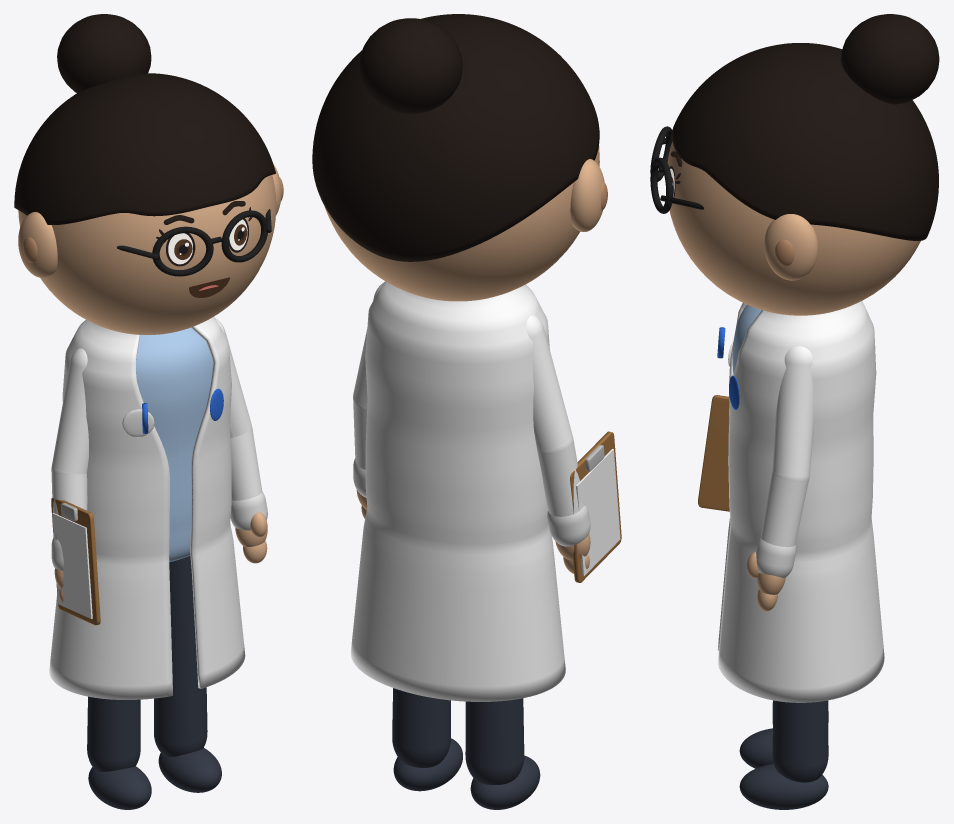
File: wetenschapper.glb
The picture shows the model from 3 angles, left to right: view 1: azimuth 30°, elevation 25°; view 2: azimuth 150°, elevation 25°; view 3: azimuth 270°, elevation 25°; orthographic projection. The views are drawn at different scales.
Parts seen in each view (by area): view 1: wetenschapper_labjas, wetenschapper_haar, wetenschapper_hoofd, wetenschapper_romp, wetenschapper_been_L, wetenschapper_knot, wetenschapper_been_R, wetenschapper_bovenarm_R, wetenschapper_klembord_papier, wetenschapper_schoen_R, wetenschapper_schoen_L, wetenschapper_onderarm_L (+8 smaller); view 2: wetenschapper_labjas, wetenschapper_haar, wetenschapper_hoofd, wetenschapper_knot, wetenschapper_been_R, wetenschapper_been_L, wetenschapper_bovenarm_R, wetenschapper_klembord_papier, wetenschapper_onderarm_R, wetenschapper_schoen_R, wetenschapper_oor_R, wetenschapper_schoen_L (+4 smaller); view 3: wetenschapper_labjas, wetenschapper_haar, wetenschapper_hoofd, wetenschapper_knot, wetenschapper_bovenarm_L, wetenschapper_been_L, wetenschapper_klembord, wetenschapper_schoen_L, wetenschapper_onderarm_L, wetenschapper_oor_L, wetenschapper_manchet_L, wetenschapper_schoen_R (+3 smaller).
Boxes of the visible parts, x1,y1,x2,y2 form: wetenschapper_labjas: (49,317,245,699); wetenschapper_haar: (14,73,275,224); wetenschapper_hoofd: (18,175,276,334); wetenschapper_romp: (136,327,213,561); wetenschapper_been_L: (154,556,207,757); wetenschapper_knot: (57,14,151,92); wetenschapper_been_R: (87,696,140,771); wetenschapper_bovenarm_R: (52,348,88,474); wetenschapper_klembord_papier: (52,513,92,618); wetenschapper_schoen_R: (88,766,151,809); wetenschapper_schoen_L: (158,748,221,792); wetenschapper_onderarm_L: (230,428,262,500); wetenschapper_labjas: (350,281,565,701); wetenschapper_haar: (312,14,599,261); wetenschapper_hoofd: (324,146,599,301); wetenschapper_knot: (359,18,462,113); wetenschapper_been_R: (465,698,524,784); wetenschapper_been_L: (392,688,450,767); wetenschapper_bovenarm_R: (526,314,572,454); wetenschapper_klembord_papier: (576,449,620,576); wetenschapper_onderarm_R: (537,439,583,516); wetenschapper_schoen_R: (470,755,540,809); wetenschapper_oor_R: (570,159,604,231); wetenschapper_schoen_L: (393,738,462,791); wetenschapper_labjas: (717,301,884,702); wetenschapper_haar: (672,43,938,240); wetenschapper_hoofd: (667,141,920,315); wetenschapper_knot: (841,14,939,104); wetenschapper_bovenarm_L: (772,346,813,481); wetenschapper_been_L: (772,700,828,782); wetenschapper_klembord: (698,395,729,511); wetenschapper_schoen_L: (739,764,828,809); wetenschapper_onderarm_L: (761,471,808,547); wetenschapper_oor_L: (764,214,818,280); wetenschapper_manchet_L: (756,536,796,577); wetenschapper_schoen_R: (739,728,773,768).
Size of the model in its own units: 0.6749 by 1.86 by 0.6322.
